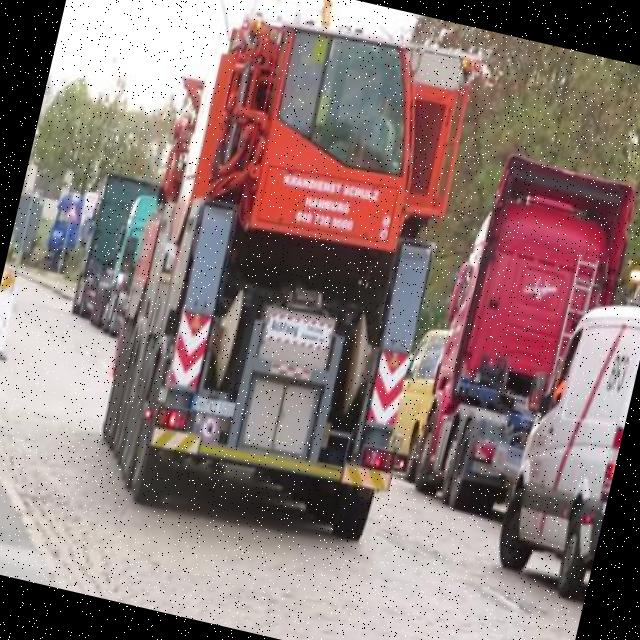Mobile Crane: (80, 0, 492, 557)
